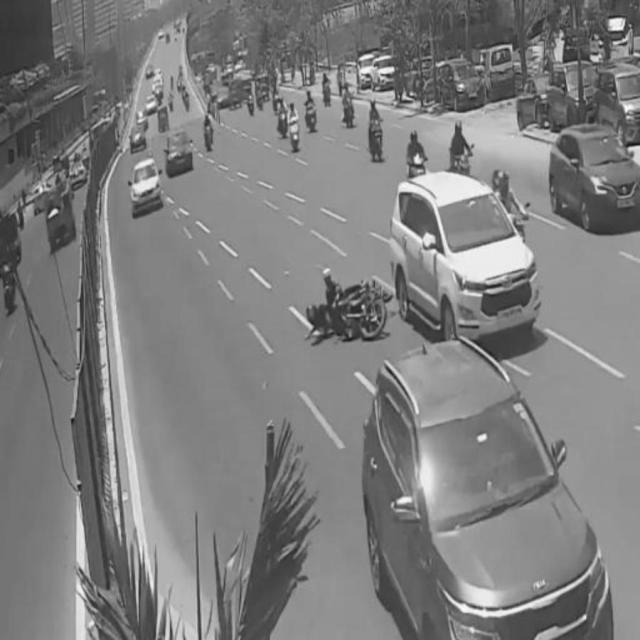vehicle: (372, 340, 615, 634), (394, 175, 546, 352), (549, 117, 639, 230), (306, 269, 392, 333), (546, 55, 596, 127), (596, 66, 640, 139), (490, 165, 528, 242), (131, 159, 163, 217), (449, 123, 475, 174), (164, 131, 192, 177), (368, 96, 388, 160), (405, 125, 429, 176)
